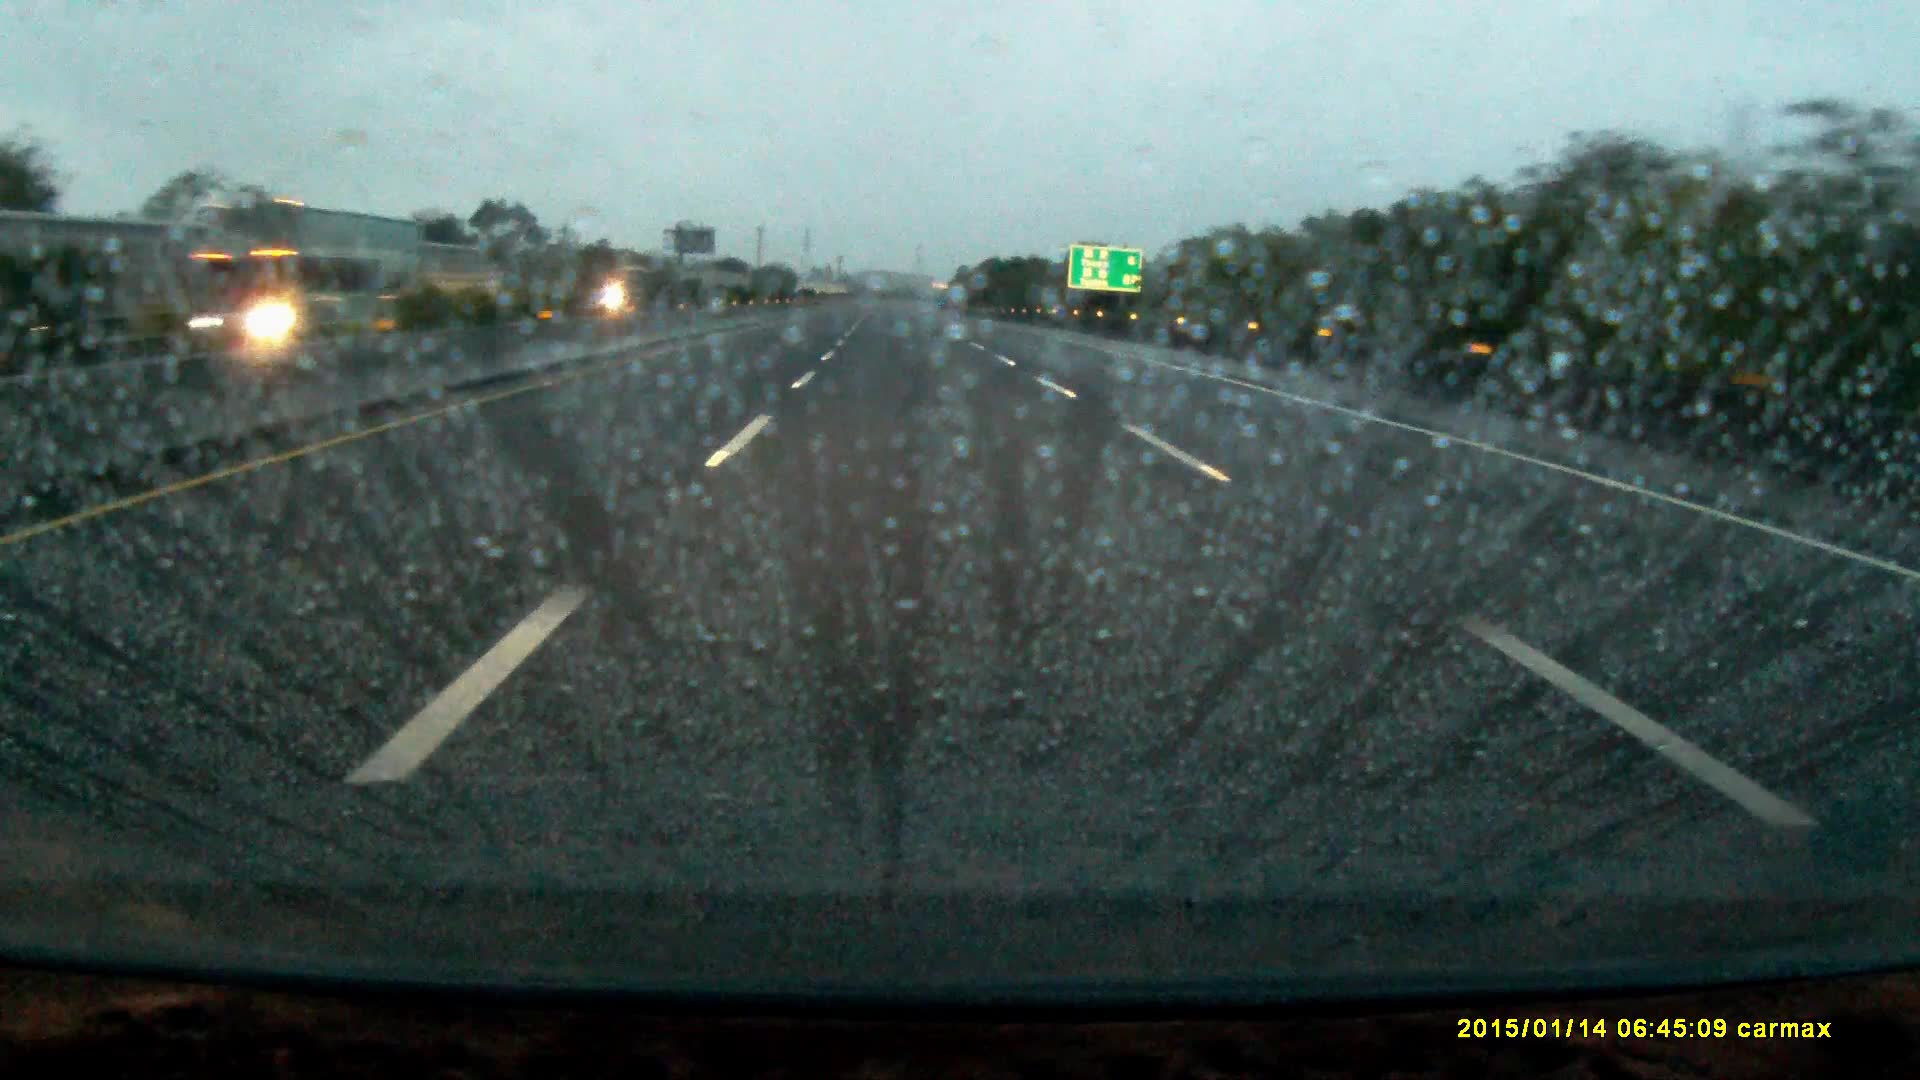vehicle: (177, 198, 407, 334), (612, 266, 675, 307)
